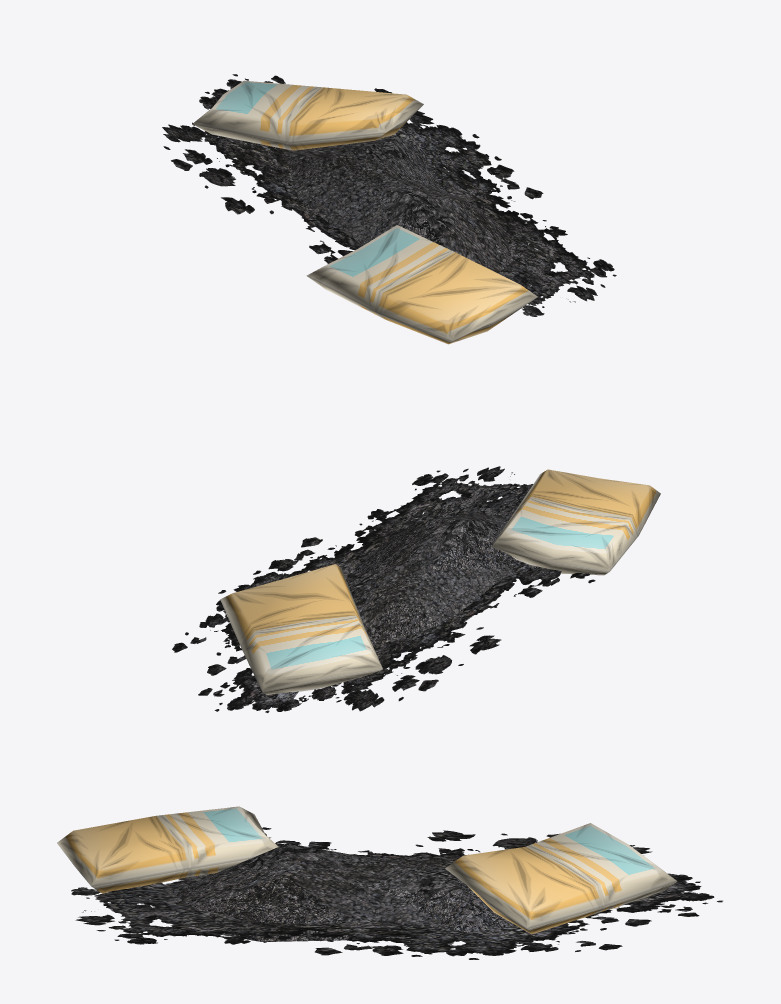
File: obs_brokenpavement.fbx
The picture shows the model from 3 angles, top to bottom: view 1: azimuth 30°, elevation 25°; view 2: azimuth 150°, elevation 25°; view 3: azimuth 270°, elevation 25°; orthographic projection.
Parts seen in each view (by area): view 1: obst_brokenPavement; view 2: obst_brokenPavement; view 3: obst_brokenPavement.
Boxes of the visible parts, <box> form: obst_brokenPavement: <box>162,74,616,344</box>; obst_brokenPavement: <box>172,466,660,712</box>; obst_brokenPavement: <box>57,806,722,959</box>.
Bounding box in the file's own units: 187 × 29.73 × 321.
